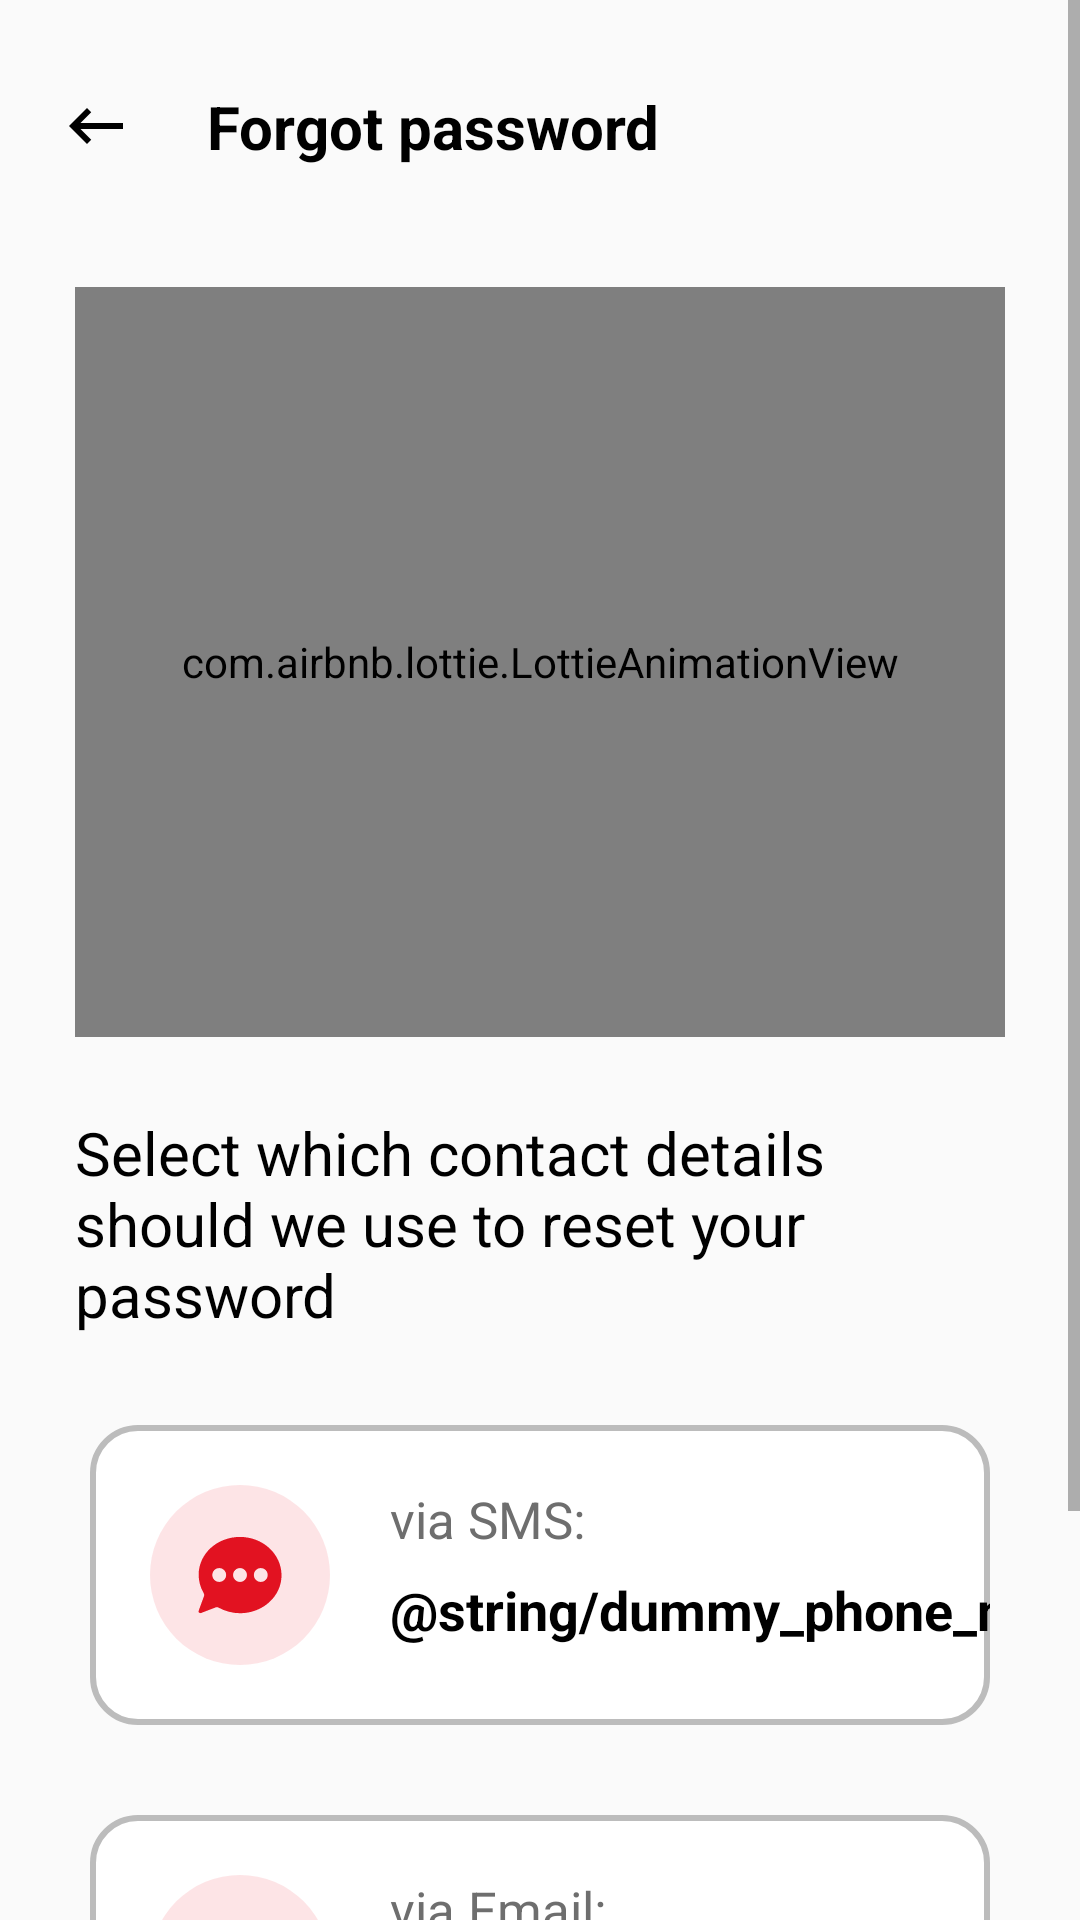

Screen size 1080×1920. Icon name, then its box in pixels as (x1, y1, x2, y2):
arrow left: (69, 108, 123, 144)
message: (198, 1537, 282, 1614)
